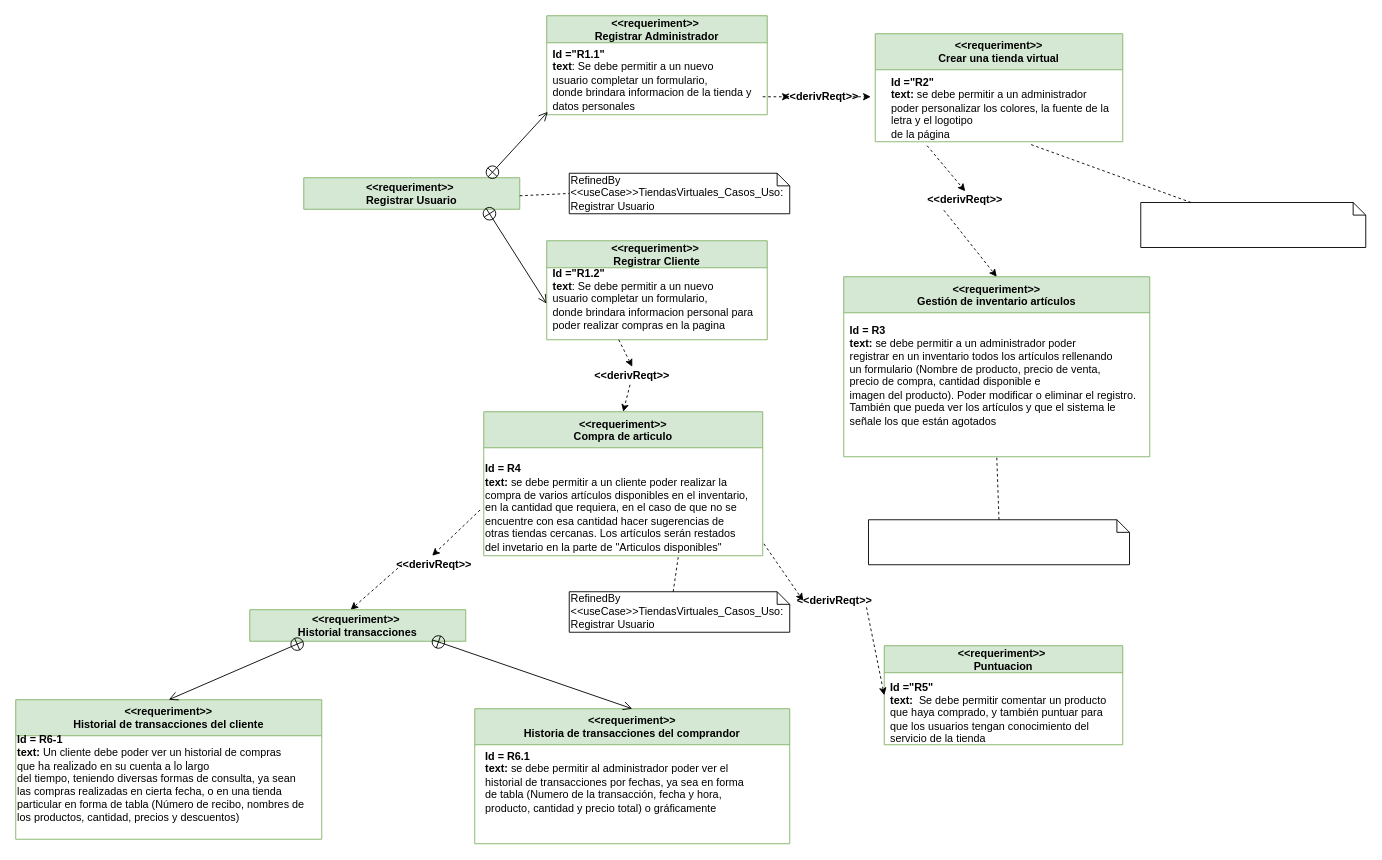
Some shapes in this 1382 by 860 pixel diagram are drawn without their labels. Here are the shapes that lost their labels. From the top down, the centre of each, then its label:
point 1253,225: RefinedBy <<useCase>>TiendasVirtuales_Casos_Uso: Creacion Tienda Virtual
point 999,542: RefinedBy <<useCase>>Mini_Tiendas_Virtuales_Casos_Uso: Gestion Inventario
